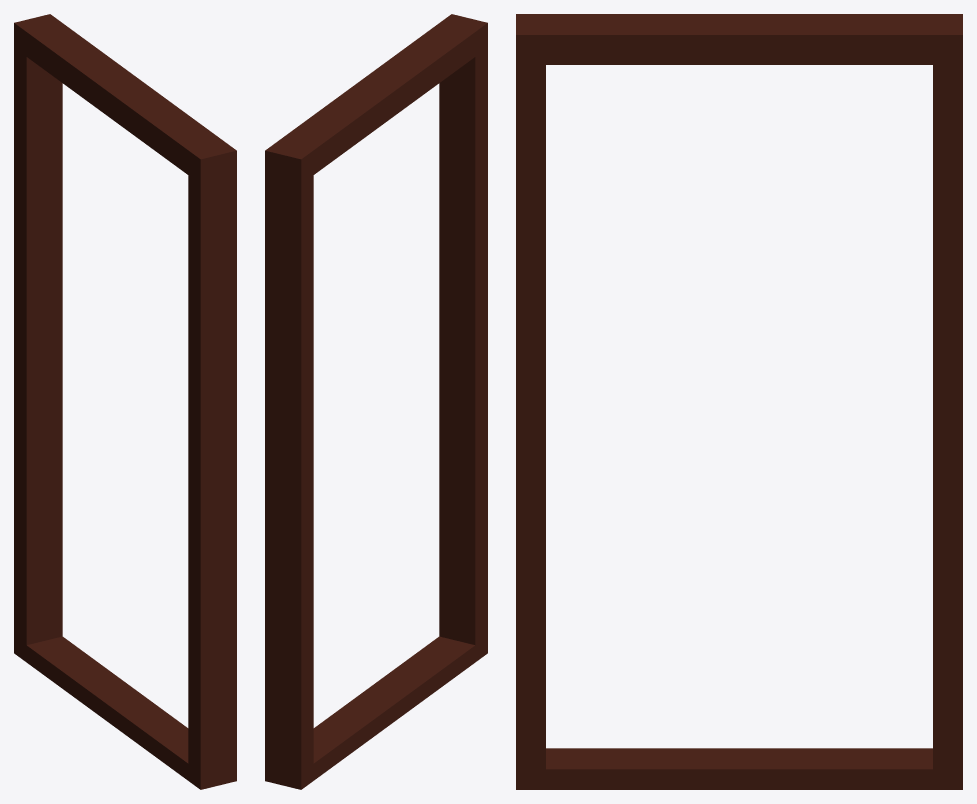
The model's file is puerta_marco.fbx.
3 renders of one model, left to right at view 1: azimuth 30°, elevation 25°; view 2: azimuth 150°, elevation 25°; view 3: azimuth 270°, elevation 25°, orthographic. The views are drawn at different scales.
Parts seen in each view (by area): view 1: Cube.002; view 2: Cube.002; view 3: Cube.002.
Part boxes in pixels (left/top/right/bottom): Cube.002: left=14, top=14, right=236, bottom=789; Cube.002: left=265, top=14, right=487, bottom=789; Cube.002: left=516, top=14, right=962, bottom=789.
Size of the model in its own units: 12.87 by 214 by 115.
